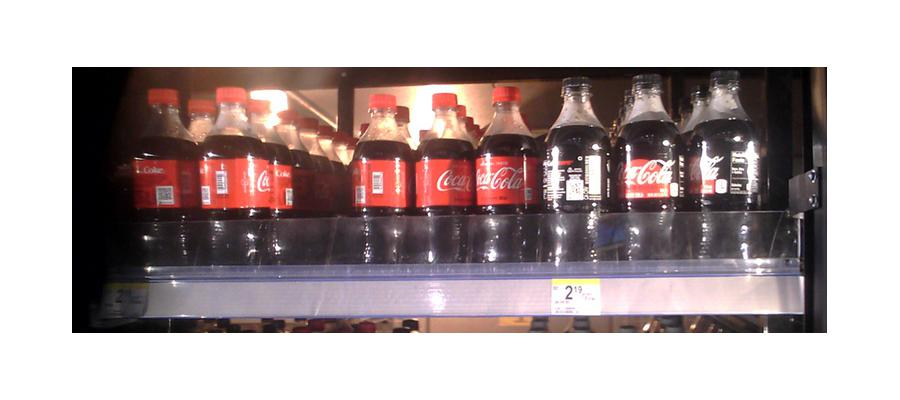bottle: (686, 72, 761, 268), (542, 79, 612, 270), (199, 94, 275, 262), (616, 74, 681, 270), (131, 85, 197, 267), (478, 86, 538, 265), (351, 98, 412, 266), (416, 94, 476, 262)
